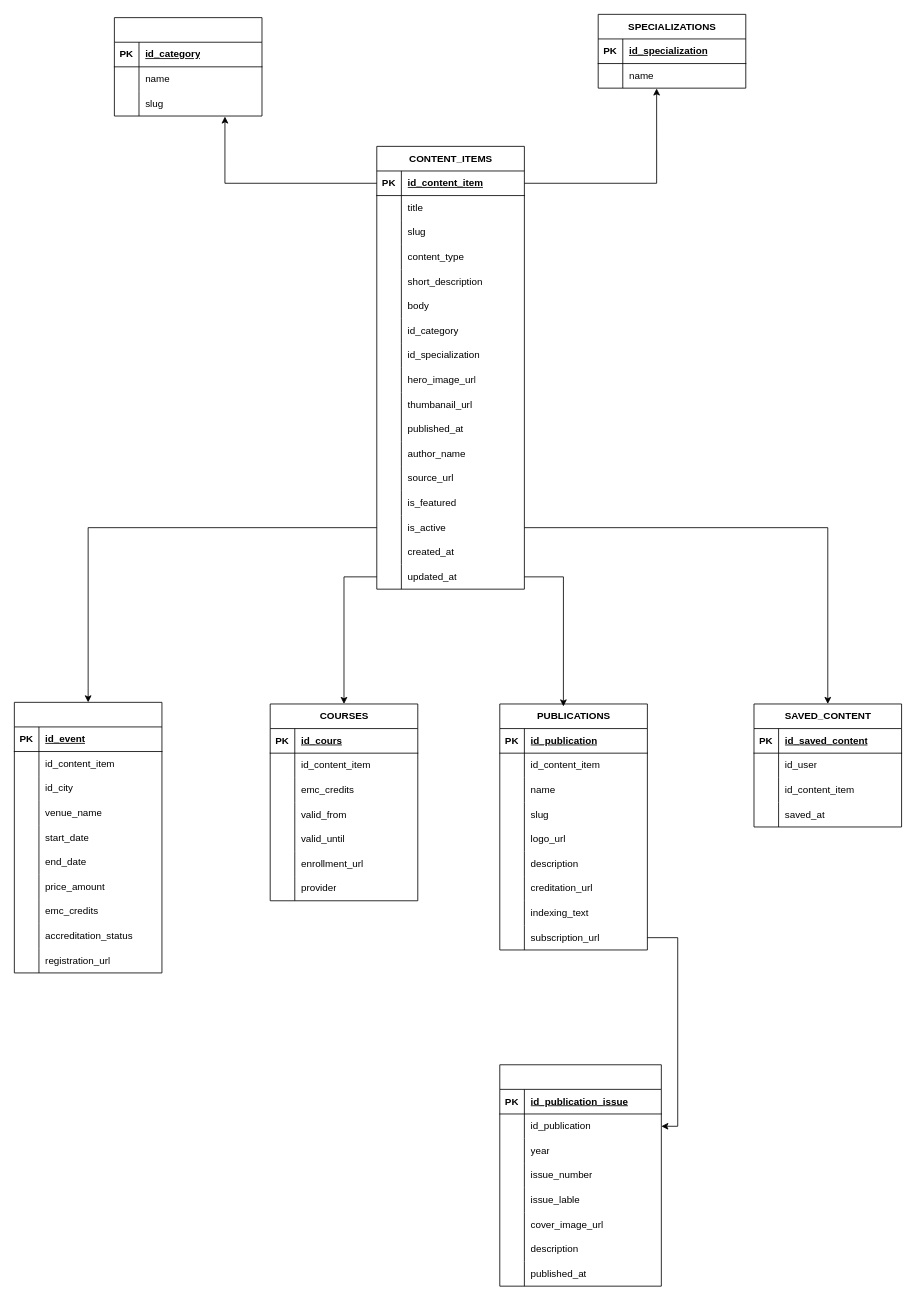
Some shapes in this 916 by 1301 pixel diagram are drawn without their labels. Each missing label, with the box of its shape:
CONTENT_CATEGORIES: (114, 17, 262, 116)
EVENTS: (14, 702, 162, 973)
PUBLICATION_ISSUES: (499, 1064, 661, 1286)
